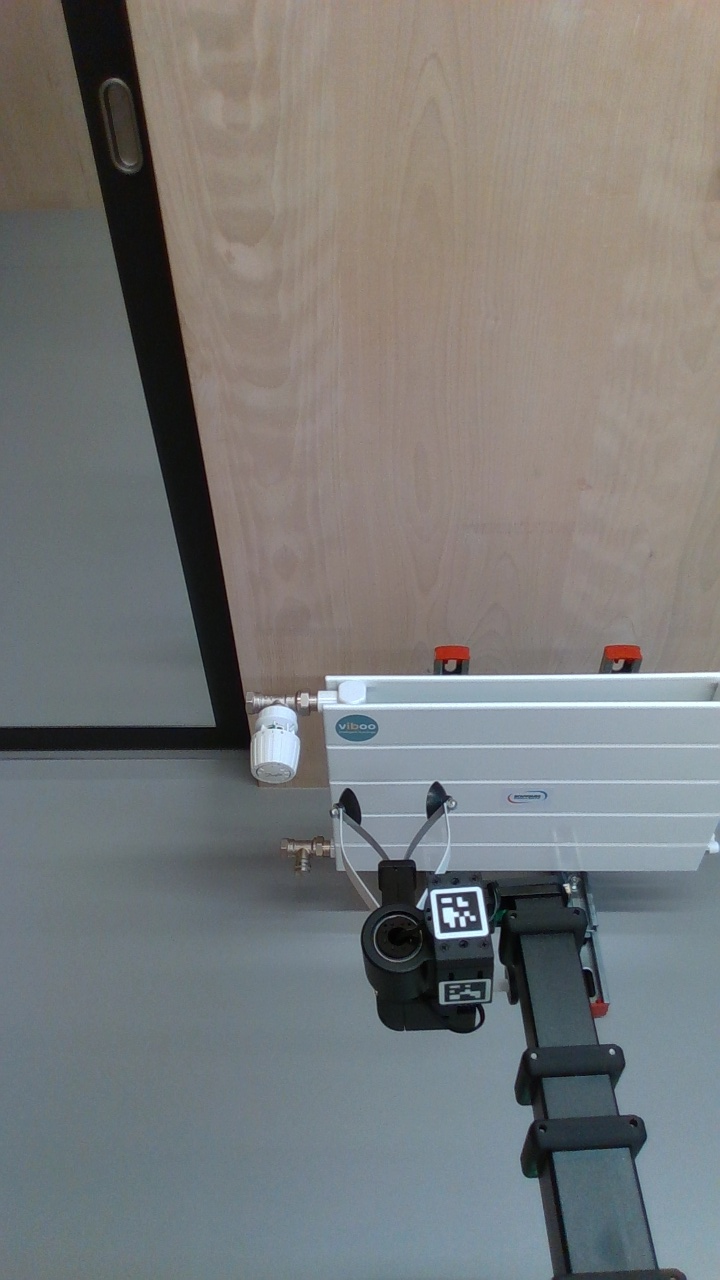Knob_Radiator: (240, 703, 312, 792)
Radiator: (312, 669, 720, 877)
